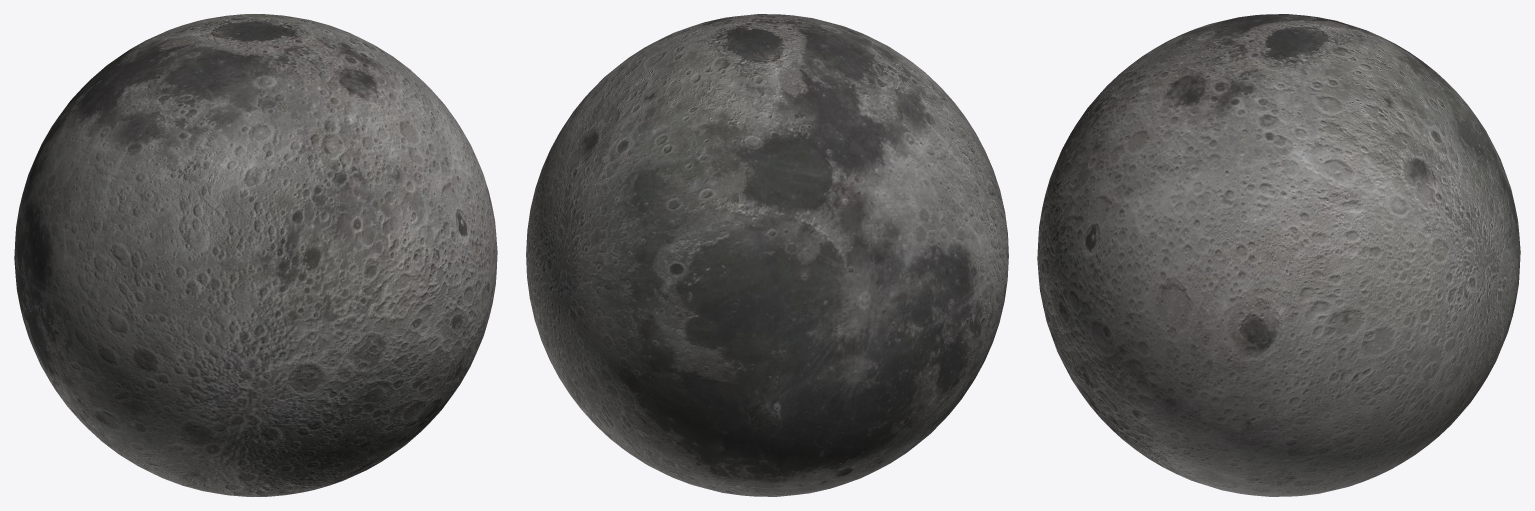
Rendered from moon-mobile-smooth-webp.glb.
3 views of the same model, side by side, from view 1: azimuth 30°, elevation 25°; view 2: azimuth 150°, elevation 25°; view 3: azimuth 270°, elevation 25° (orthographic).
Visible parts, largest first — view 1: Moon_Optimized; view 2: Moon_Optimized; view 3: Moon_Optimized.
Boxes of the visible parts, x1,y1,x2,y2 form: Moon_Optimized: (14,14,497,496); Moon_Optimized: (526,14,1008,496); Moon_Optimized: (1037,14,1520,496).
Bounding box in the file's own units: 3.49 × 3.49 × 3.49.
1 material, 1 textured.
